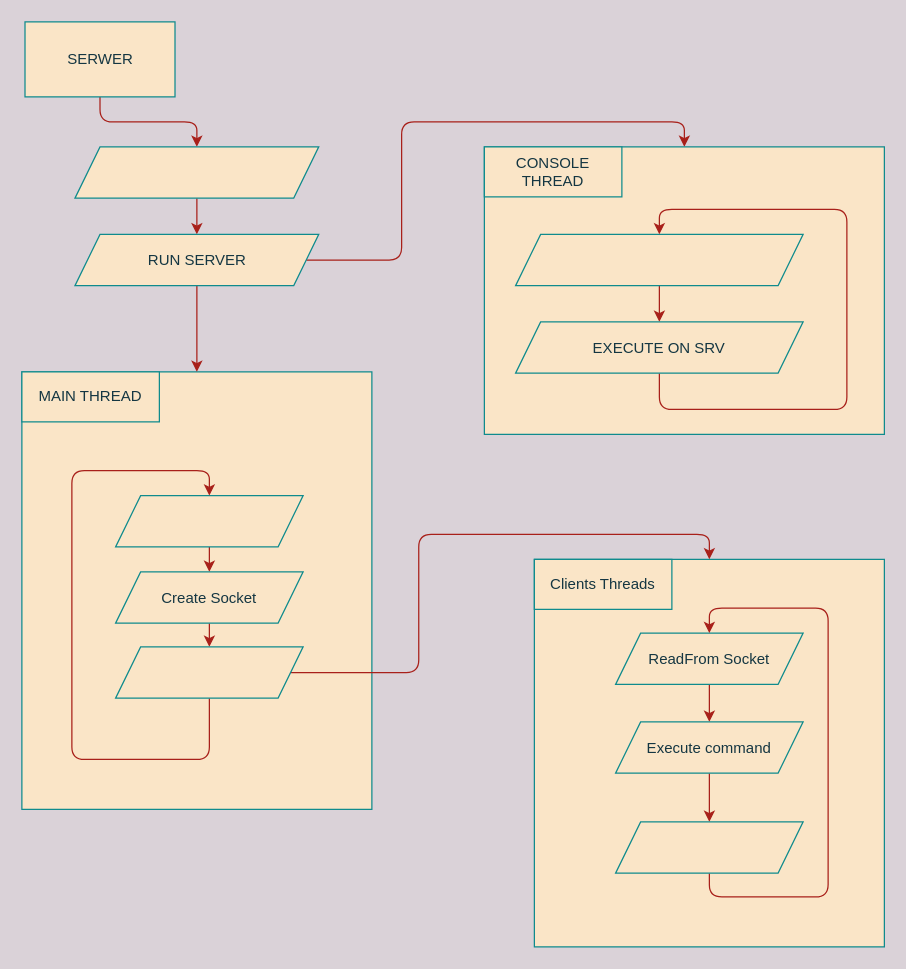
This 906x969 diagram has some shape labels left out. Here are the shapes that lost their labels. From the top down, the centre of each, then its label:
At [196,172]: "PREPARE SERVER".
At [658,259]: "GET INPUT FROM CMD".
At [208,520]: "Accept Client".
At [208,672]: "Run Client Thread".
At [708,847]: "Answer to Client".
